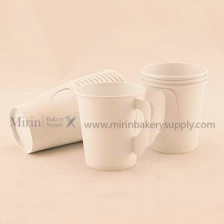paper_cup: (6, 66, 136, 157), (69, 77, 169, 173), (136, 57, 211, 157)
